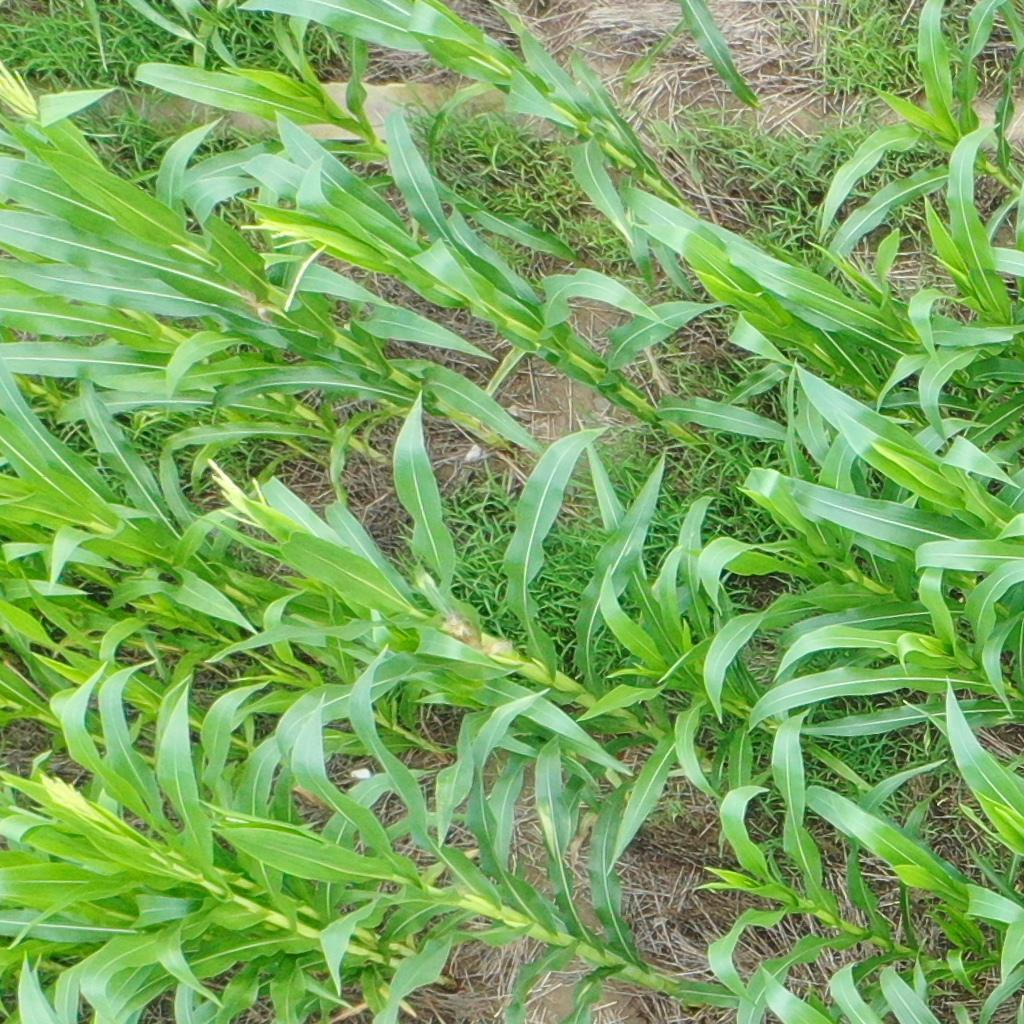Tassel: (237, 204, 332, 311), (202, 458, 271, 529), (32, 770, 102, 826), (1, 60, 44, 125)
